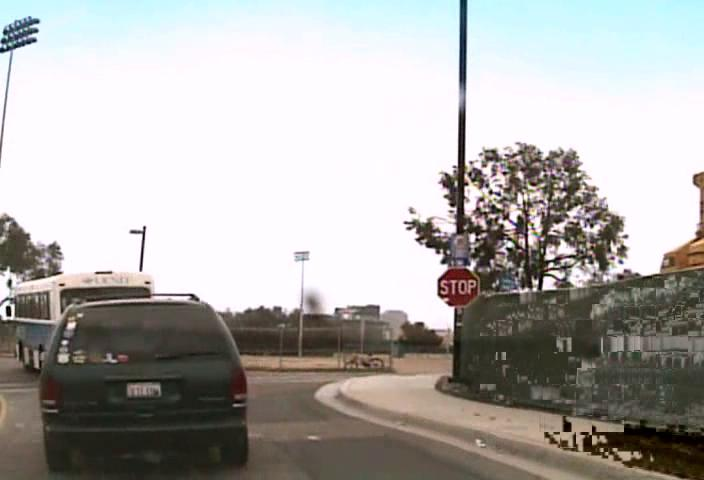stop: (436, 266, 479, 306)
